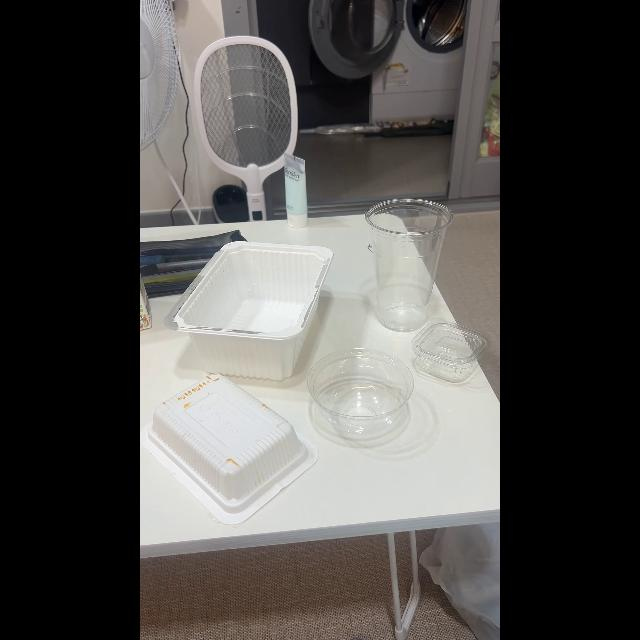clean: (175, 244, 333, 364), (312, 358, 418, 438), (367, 204, 431, 330), (418, 330, 488, 384)
dirty: (152, 368, 296, 508)
